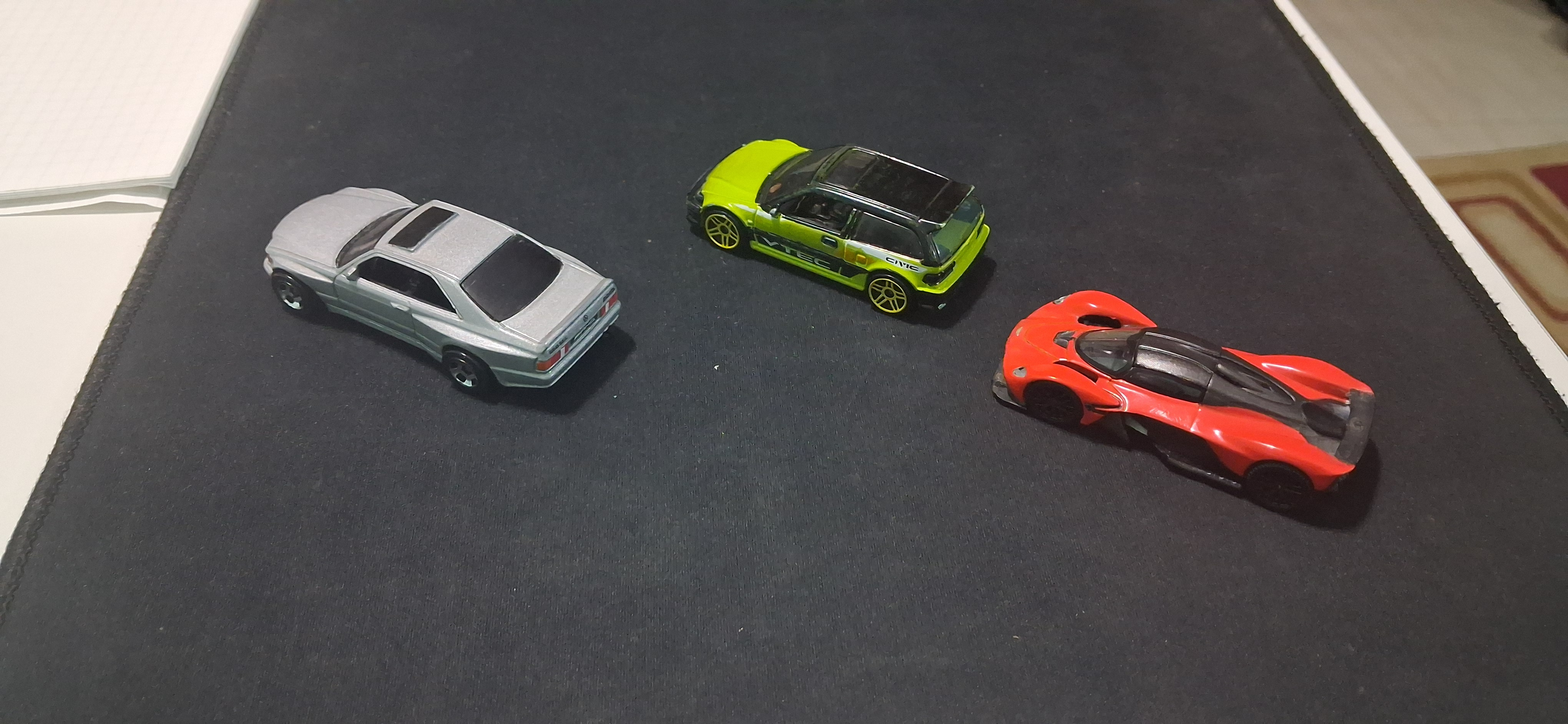Aston_Martin_Valkyrie: (982, 280, 1395, 572)
Honda_Civic: (646, 82, 1017, 332)
Mercedes_Benz_560_SEC_AMG: (202, 130, 636, 450)
